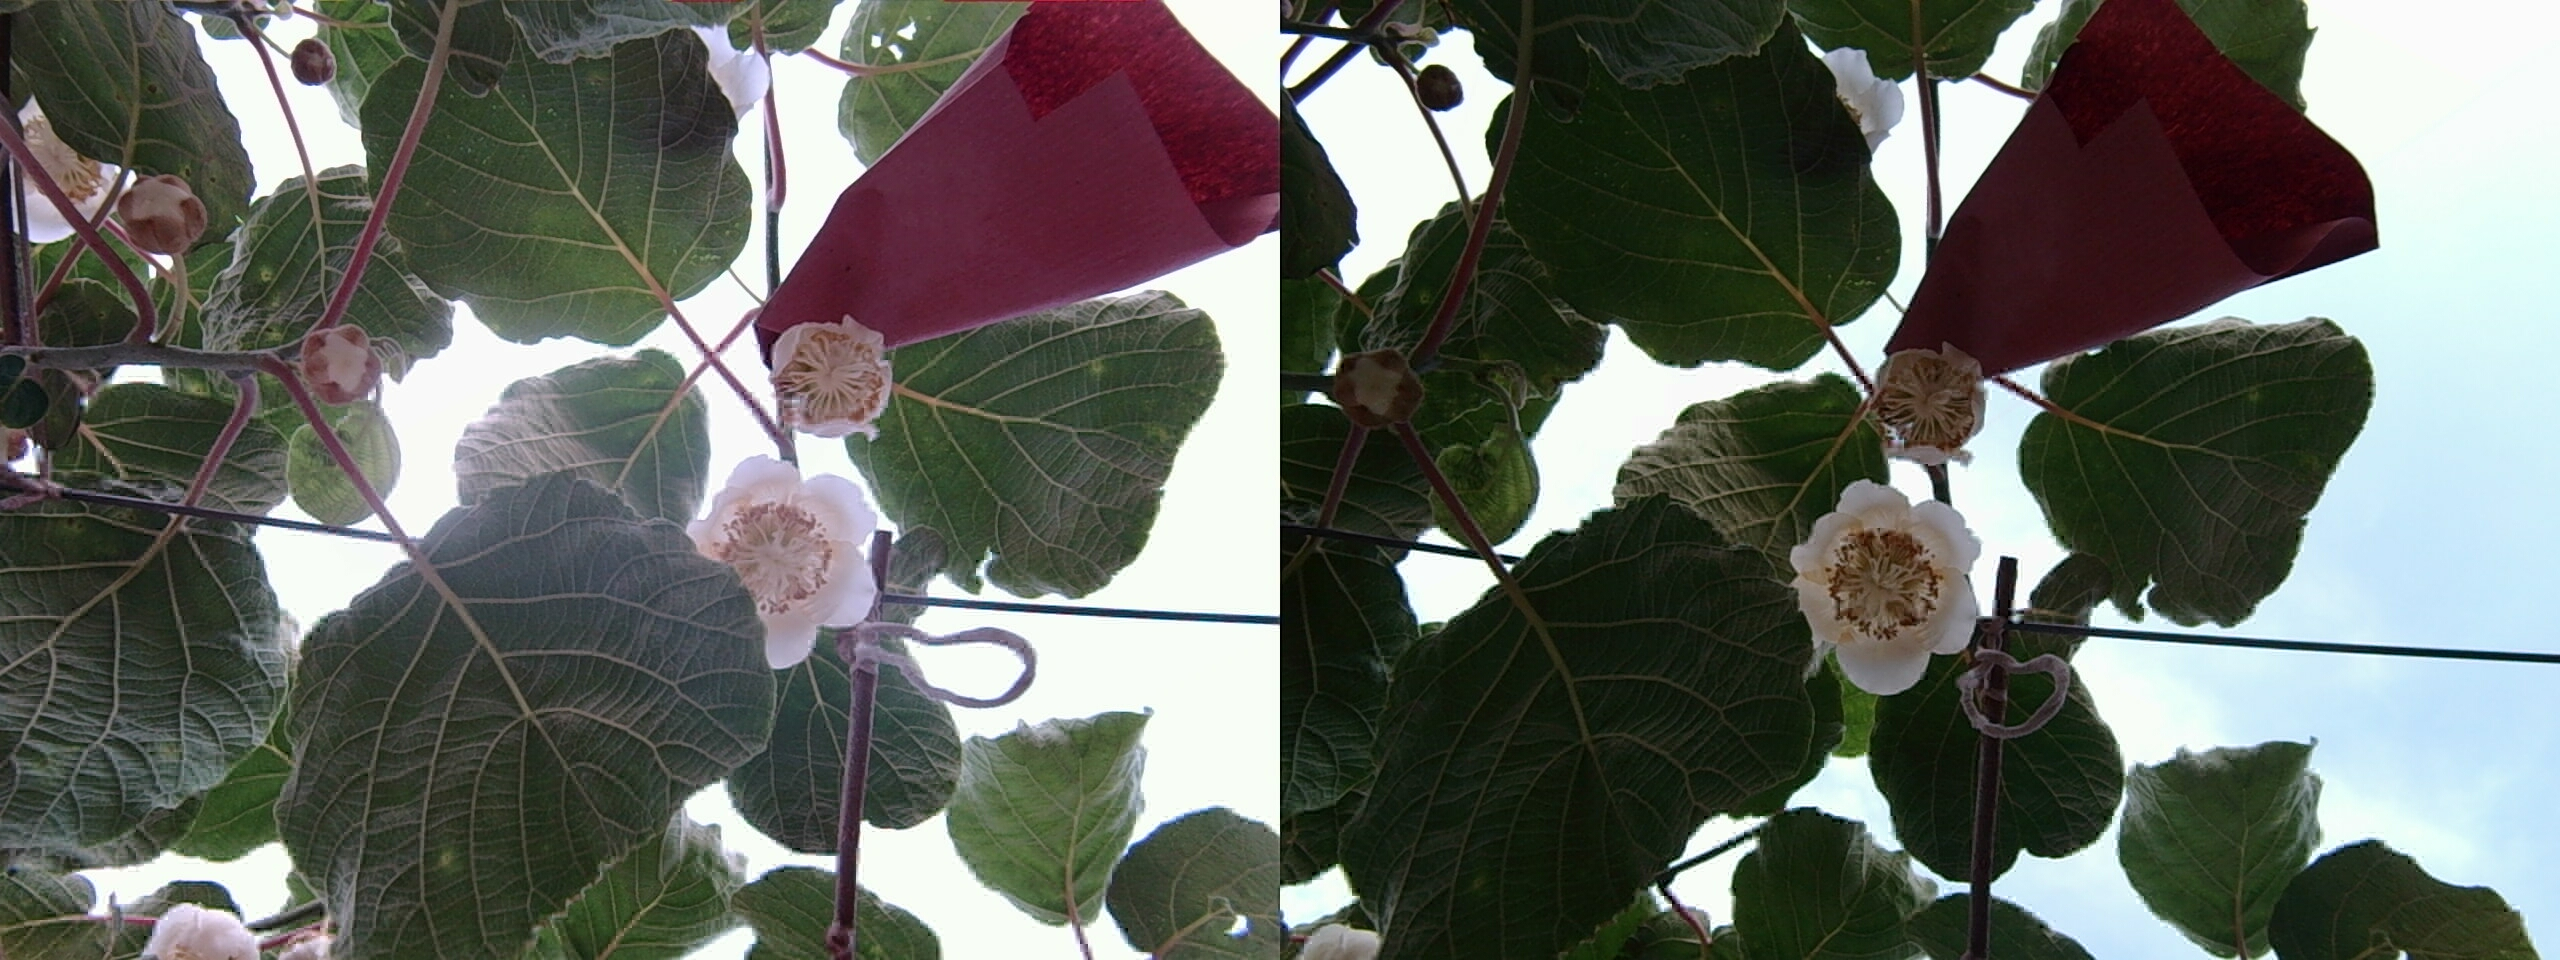flower: (673, 449, 888, 660), (1778, 465, 1980, 689), (759, 307, 896, 441), (1855, 335, 1989, 469)
